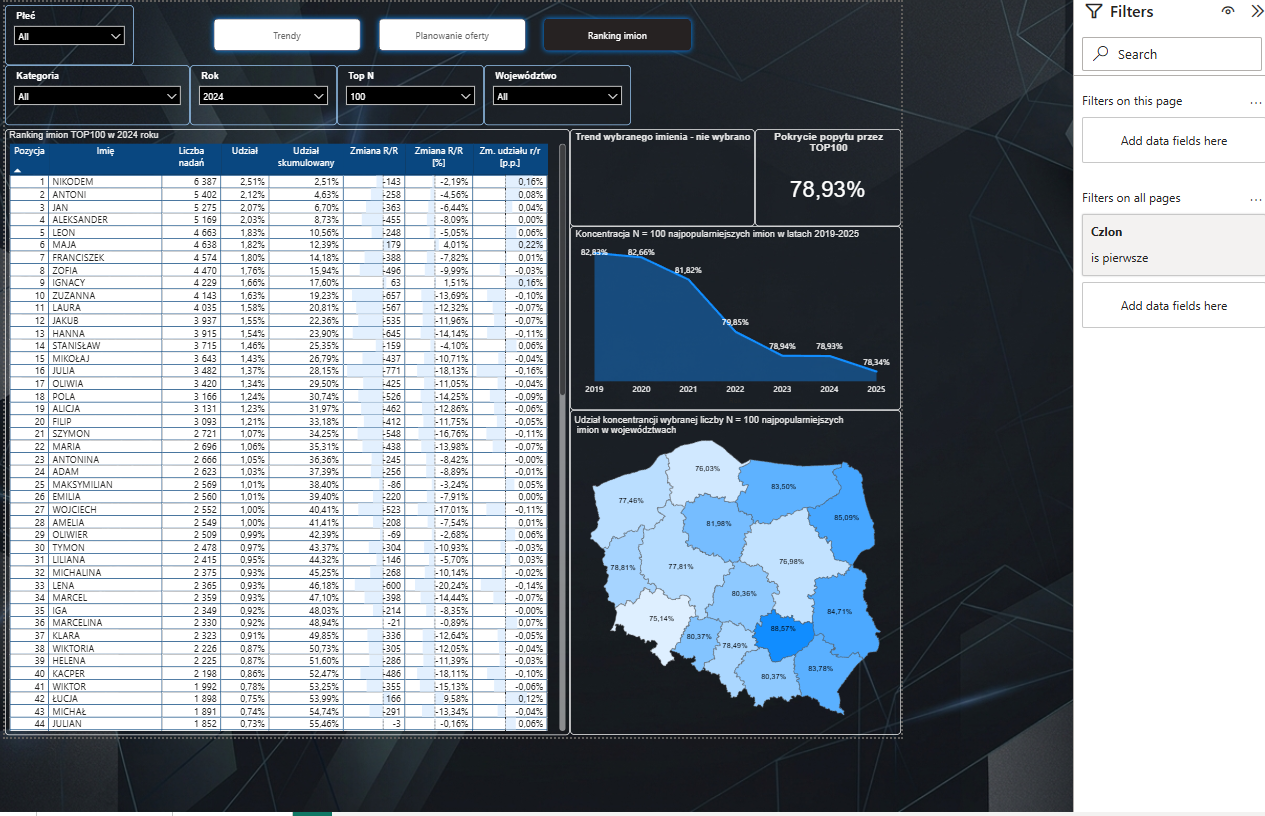

The dashboard page shown, as its layout file describes it:
{"tool":"powerbi","page":{"name":"Ranking imion","canvas":[1280,1050],"ordinal":2},"visuals":[{"type":"shapeMap","fields":{"Category":["imiona_woj_wszystkie_lata.Column"],"Value":["Imiona.Koncentracja_n_imion"]},"box":[807.1,582.9,472.9,464.3],"z":0},{"type":"areaChart","fields":{"Category":["Imiona.IMIE","Imiona.Rok"],"Y":["Imiona.N_sumaryczna_koncentracja (do weryfikacji)"]},"box":[807.1,320,472.9,262.9],"z":1000},{"type":"slicer","fields":{"Values":["Imiona.PLEC"]},"box":[0,4.3,184.3,85.7],"z":2000},{"type":"card","fields":{"Values":["Imiona.Koncentracja_n_imion"]},"box":[1016.2,906.8,55,30],"z":3000},{"type":"card","fields":{"Values":["Imiona.Koncentracja_n_imion"]},"box":[1071.2,951.8,53.8,23.8],"z":4000},{"type":"card","fields":{"Values":["Imiona.Koncentracja_n_imion"]},"box":[1138.8,940.5,53.8,23.8],"z":5000},{"type":"card","fields":{"Values":["Imiona.Koncentracja_n_imion"]},"box":[1166.2,858,53.8,23.8],"z":6000},{"type":"card","fields":{"Values":["Imiona.Koncentracja_n_imion"]},"box":[1175,724.3,53.8,23.8],"z":7000},{"type":"card","fields":{"Values":["Imiona.Koncentracja_n_imion"]},"box":[1085,679.3,53.8,23.8],"z":8000},{"type":"card","fields":{"Values":["Imiona.Koncentracja_n_imion"]},"box":[977.5,654.3,53.8,25],"z":9000},{"type":"card","fields":{"Values":["Imiona.Koncentracja_n_imion"]},"box":[1097.5,786.8,53.8,28.8],"z":10000},{"type":"card","fields":{"Values":["Imiona.Koncentracja_n_imion"]},"box":[992.5,730.5,55,35],"z":11000},{"type":"card","fields":{"Values":["Imiona.Koncentracja_n_imion"]},"box":[868.8,700.5,52.5,30],"z":12000},{"type":"card","fields":{"Values":["Imiona.Koncentracja_n_imion"]},"box":[938.8,794.3,55,25],"z":13000},{"type":"card","fields":{"Values":["Imiona.Koncentracja_n_imion"]},"box":[1030,833,52.5,23.8],"z":14000},{"type":"card","fields":{"Values":["Imiona.Koncentracja_n_imion"]},"box":[1086.2,883,52.5,23.8],"z":15000},{"type":"card","fields":{"Values":["Imiona.Koncentracja_n_imion"]},"box":[965,894.3,52.5,25],"z":16000},{"type":"card","fields":{"Values":["Imiona.Koncentracja_n_imion"]},"box":[911.2,868,53.8,26.2],"z":17000},{"type":"card","fields":{"Values":["Imiona.Koncentracja_n_imion"]},"box":[856.2,795.5,55,23.8],"z":18000},{"type":"tableEx","fields":{"Values":["Imiona.N_ranking","Imiona.IMIE","Imiona.N_Liczba_imion","Imiona.N_udzial","Imiona.N_udzial_kum","Imiona.N_TY_YO","Imiona.N_TY_YO_pro","Imiona.N_udział_R"]},"box":[0,181.4,807.1,865.7],"z":19000},{"type":"pageNavigator","box":[290,16.2,700,62.5],"z":20000},{"type":"slicer","fields":{"Values":["TopN.Top N"]},"box":[474.3,90,210,85.7],"z":21000},{"type":"slicer","fields":{"Values":["Imiona.Rok"]},"box":[264.3,90,210,85.7],"z":22000},{"type":"slicer","fields":{"Values":["Kategorie.KATEGORIA"]},"box":[0,90,264.3,85.7],"z":23000},{"type":"lineChart","fields":{"Category":["Imiona.Rok"],"Y":["Miary.Liczba nadań wybranego imienia"]},"box":[807.1,181.4,264.3,138.6],"z":24000},{"type":"slicer","fields":{"Values":["Imiona.Województwo - nazwa do mapy"]},"box":[684.3,90,210,85.7],"z":25000},{"type":"card","fields":{"Values":["Miary.Udział nadań Top N"]},"box":[1071.4,181.4,208.6,138.6],"z":26000}]}

Visuals, with their boxes on the page's 1280x1050 design canvas (x1, y1, x2, y2). These are canvas units, not pixel positions in the 1265x816 screenshot, which may show the page scaled, cropped or inside an application window:
shapeMap - imiona_woj_wszystkie_lata.Column x Imiona.Koncentracja_n_imion: (807, 583, 1280, 1047)
areaChart - Imiona.IMIE x Imiona.Rok: (807, 320, 1280, 583)
slicer - Imiona.PLEC: (0, 4, 184, 90)
card - Imiona.Koncentracja_n_imion: (1016, 907, 1071, 937)
card - Imiona.Koncentracja_n_imion: (1071, 952, 1125, 976)
card - Imiona.Koncentracja_n_imion: (1139, 940, 1193, 964)
card - Imiona.Koncentracja_n_imion: (1166, 858, 1220, 882)
card - Imiona.Koncentracja_n_imion: (1175, 724, 1229, 748)
card - Imiona.Koncentracja_n_imion: (1085, 679, 1139, 703)
card - Imiona.Koncentracja_n_imion: (978, 654, 1031, 679)
card - Imiona.Koncentracja_n_imion: (1098, 787, 1151, 816)
card - Imiona.Koncentracja_n_imion: (992, 730, 1048, 766)
card - Imiona.Koncentracja_n_imion: (869, 700, 921, 730)
card - Imiona.Koncentracja_n_imion: (939, 794, 994, 819)
card - Imiona.Koncentracja_n_imion: (1030, 833, 1082, 857)
card - Imiona.Koncentracja_n_imion: (1086, 883, 1139, 907)
card - Imiona.Koncentracja_n_imion: (965, 894, 1018, 919)
card - Imiona.Koncentracja_n_imion: (911, 868, 965, 894)
card - Imiona.Koncentracja_n_imion: (856, 796, 911, 819)
tableEx - Imiona.N_ranking x Imiona.IMIE: (0, 181, 807, 1047)
pageNavigator: (290, 16, 990, 79)
slicer - TopN.Top N: (474, 90, 684, 176)
slicer - Imiona.Rok: (264, 90, 474, 176)
slicer - Kategorie.KATEGORIA: (0, 90, 264, 176)
lineChart - Imiona.Rok x Miary.Liczba nadań wybranego imienia: (807, 181, 1071, 320)
slicer - Imiona.Województwo - nazwa do mapy: (684, 90, 894, 176)
card - Miary.Udział nadań Top N: (1071, 181, 1280, 320)
